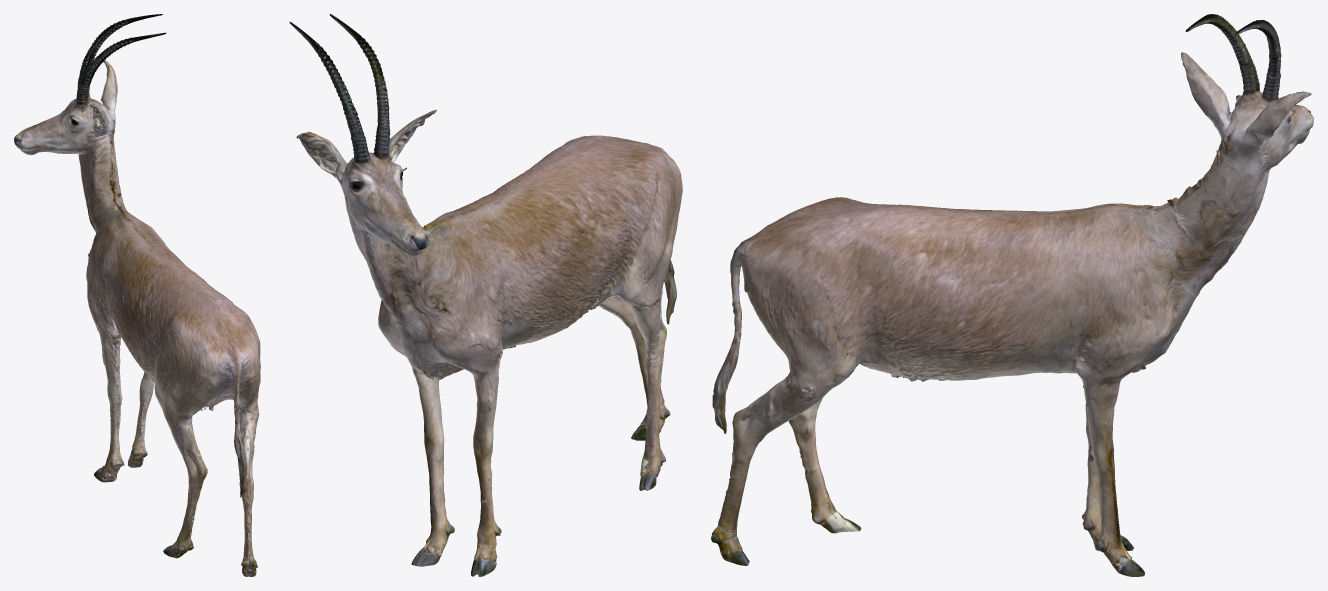
3 views of the same model, side by side, from view 1: azimuth 30°, elevation 25°; view 2: azimuth 150°, elevation 25°; view 3: azimuth 270°, elevation 25° (orthographic). The views are drawn at different scales.
Visible parts, largest first — view 1: NHMW-Zoo1-MAMM St715_Hippotragus leucophaeus_Blaubock_low re; view 2: NHMW-Zoo1-MAMM St715_Hippotragus leucophaeus_Blaubock_low re; view 3: NHMW-Zoo1-MAMM St715_Hippotragus leucophaeus_Blaubock_low re.
Part boxes in pixels (bbox=[...]): NHMW-Zoo1-MAMM St715_Hippotragus leucophaeus_Blaubock_low re: bbox=[14, 14, 260, 576]; NHMW-Zoo1-MAMM St715_Hippotragus leucophaeus_Blaubock_low re: bbox=[289, 14, 682, 576]; NHMW-Zoo1-MAMM St715_Hippotragus leucophaeus_Blaubock_low re: bbox=[711, 14, 1313, 576].
Bounding box in the file's own units: 0.649 × 1.83 × 1.7.
Materials: 1 (1 with a texture image).
